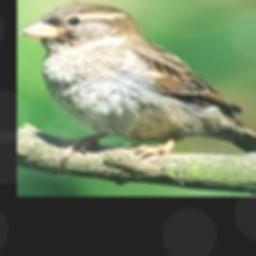Sparrow: (19, 2, 256, 162)
